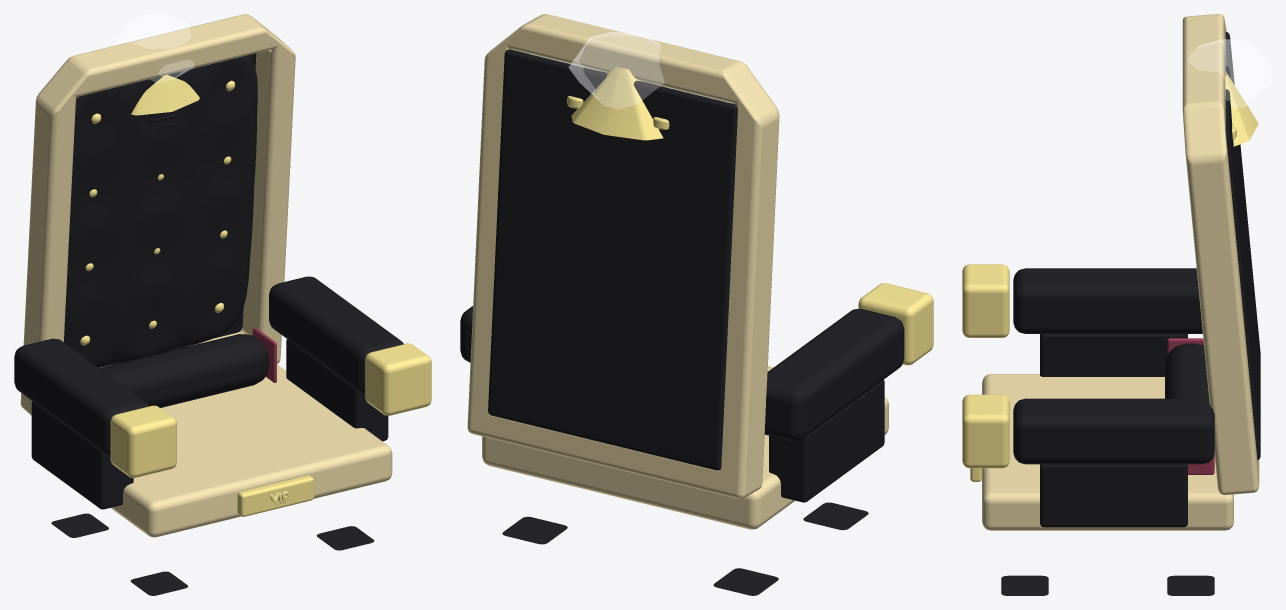
File: BlackDiamondVIPChair.glb
3 views of the same model, side by side, from view 1: azimuth 30°, elevation 25°; view 2: azimuth 150°, elevation 25°; view 3: azimuth 270°, elevation 25° (orthographic). The views are drawn at different scales.
Visible parts, largest first — view 1: Backrest_TuftedPanel, Backrest_Frame, Seat_Frame, Armrest_R, Armrest_L, Bolster_Cushion, ArmSupport_L, ArmCap_R, ArmCap_L, ArmSupport_R, Gem_Diamond, VIP_Plate (+5 smaller); view 2: Backrest_RearPanel, Backrest_Frame, Armrest_L, Seat_Frame, ArmSupport_L, Gem_Diamond, Gem_Bezel, ArmCap_L, Leg_FL, Leg_BR, Leg_BL; view 3: Backrest_Frame, Armrest_R, Armrest_L, Seat_Frame, ArmSupport_R, ArmSupport_L, Backrest_RearPanel, ArmCap_R, ArmCap_L, Gem_Diamond, Bolster_Cushion, Gem_Bezel (+2 smaller).
Boxes of the visible parts, x1,y1,x2,y2 form: Backrest_TuftedPanel: [64, 55, 257, 367]; Backrest_Frame: [20, 14, 295, 415]; Seat_Frame: [110, 364, 392, 537]; Armrest_R: [269, 276, 403, 392]; Armrest_L: [14, 338, 148, 455]; Bolster_Cushion: [99, 334, 268, 407]; ArmSupport_L: [31, 401, 133, 509]; ArmCap_R: [365, 343, 431, 415]; ArmCap_L: [110, 405, 176, 477]; ArmSupport_R: [286, 339, 388, 441]; Gem_Diamond: [114, 14, 194, 82]; VIP_Plate: [237, 475, 313, 516]; Backrest_RearPanel: [488, 49, 737, 470]; Backrest_Frame: [467, 14, 779, 498]; Armrest_L: [764, 308, 904, 441]; Seat_Frame: [482, 367, 888, 529]; ArmSupport_L: [769, 379, 884, 502]; Gem_Diamond: [569, 32, 663, 109]; Gem_Bezel: [567, 66, 669, 140]; ArmCap_L: [858, 283, 933, 365]; Leg_FL: [803, 502, 868, 530]; Leg_BR: [502, 516, 567, 544]; Leg_BL: [713, 568, 778, 595]; Backrest_Frame: [1182, 14, 1259, 494]; Armrest_R: [1013, 398, 1214, 464]; Armrest_L: [1013, 268, 1202, 333]; Seat_Frame: [982, 374, 1233, 530]; ArmSupport_R: [1040, 464, 1187, 527]; ArmSupport_L: [1040, 334, 1187, 376]; Backrest_RearPanel: [1225, 32, 1260, 459]; ArmCap_R: [962, 394, 1009, 468]; ArmCap_L: [962, 264, 1009, 337]; Gem_Diamond: [1181, 39, 1271, 108]; Bolster_Cushion: [1165, 343, 1209, 400]; Gem_Bezel: [1225, 71, 1258, 146].
Bounding box in the file's own units: 1.24 × 1.82 × 1.04.
